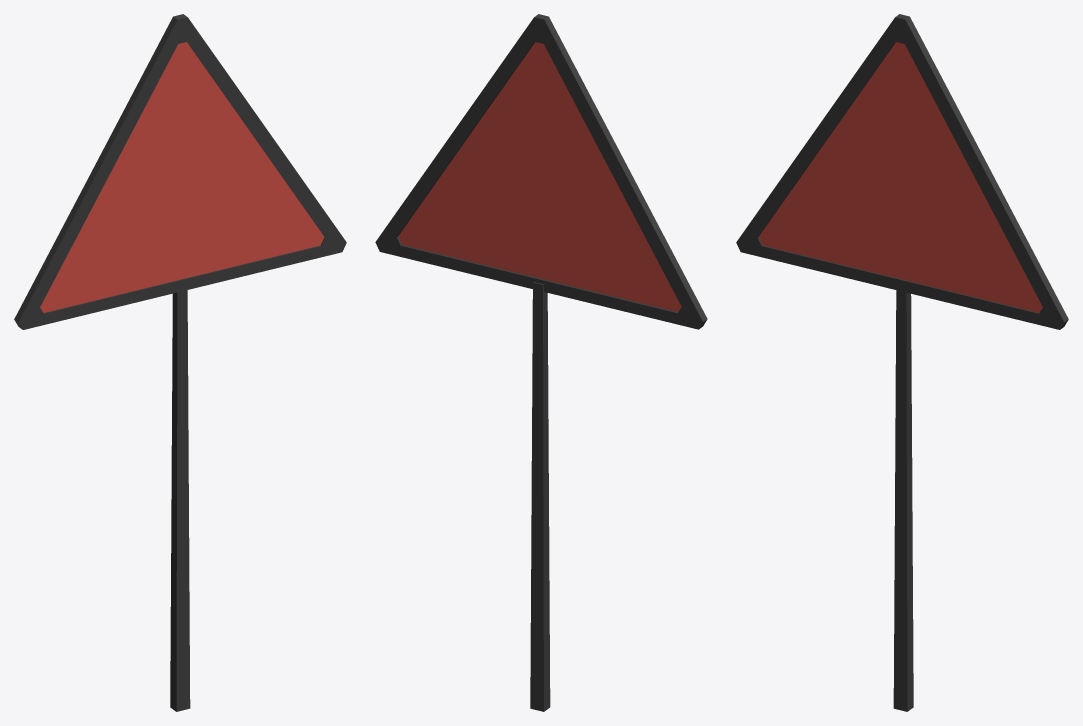
File: SIGN-TRIANGLE.glb
The picture shows the model from 3 angles, left to right: view 1: azimuth 30°, elevation 25°; view 2: azimuth 150°, elevation 25°; view 3: azimuth 330°, elevation 25°; orthographic projection.
Parts seen in each view (by area): view 1: SIGN-TRIANGLE; view 2: SIGN-TRIANGLE; view 3: SIGN-TRIANGLE.
Boxes of the visible parts, bbox=[...] form: SIGN-TRIANGLE: bbox=[14, 14, 346, 711]; SIGN-TRIANGLE: bbox=[375, 14, 707, 711]; SIGN-TRIANGLE: bbox=[736, 14, 1068, 711].
Size of the model in its own units: 1.7 by 3.42 by 0.0565.
